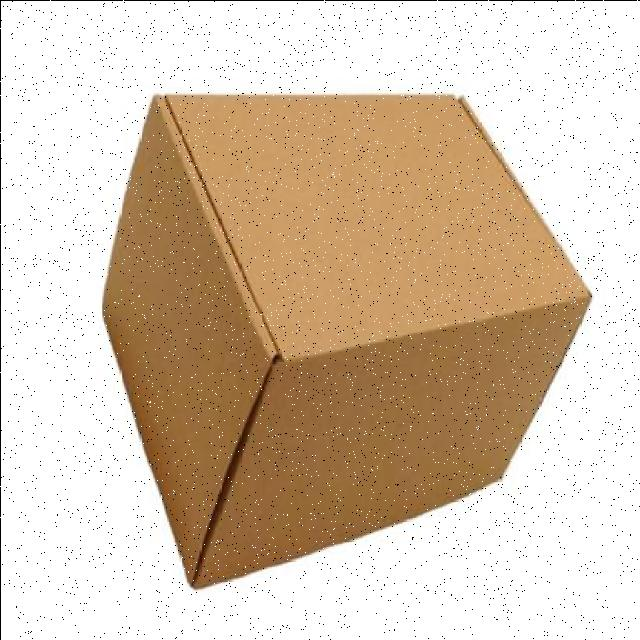normal: (98, 86, 592, 592)
